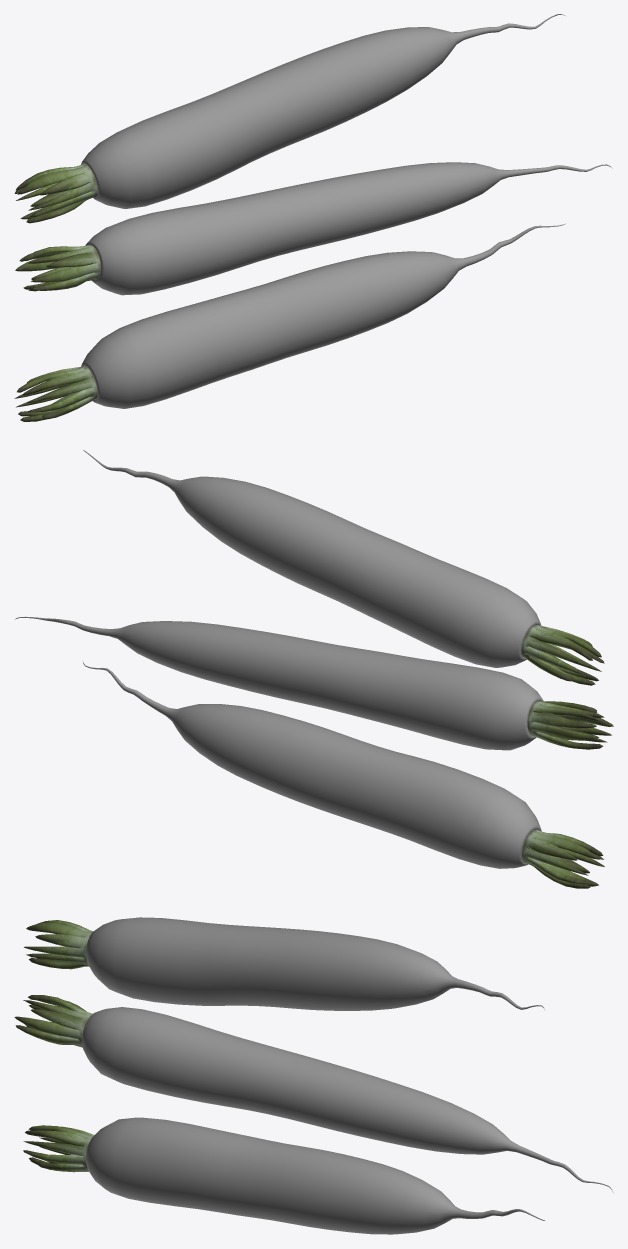
The picture shows the model from 3 angles, top to bottom: view 1: azimuth 30°, elevation 25°; view 2: azimuth 150°, elevation 25°; view 3: azimuth 330°, elevation 25°; orthographic projection.
Parts seen in each view (by area): view 1: Model_103_White_Radish_04, Model_103_White_Radish_02, Model_103_White_Radish_01, Model_103_White_Radish_05, Model_103_White_Radish_03, Model_103_White_Radish_00; view 2: Model_103_White_Radish_04, Model_103_White_Radish_02, Model_103_White_Radish_01, Model_103_White_Radish_03, Model_103_White_Radish_00, Model_103_White_Radish_05; view 3: Model_103_White_Radish_01, Model_103_White_Radish_02, Model_103_White_Radish_04, Model_103_White_Radish_00, Model_103_White_Radish_05, Model_103_White_Radish_03.
Part boxes in pixels (x1,y1,x2,y2): Model_103_White_Radish_04: (81,14,565,208); Model_103_White_Radish_02: (81,223,566,408); Model_103_White_Radish_01: (85,162,612,295); Model_103_White_Radish_05: (14,164,97,223); Model_103_White_Radish_03: (14,366,97,421); Model_103_White_Radish_00: (15,245,100,291); Model_103_White_Radish_04: (83,450,541,667); Model_103_White_Radish_02: (83,662,541,868); Model_103_White_Radish_01: (15,616,543,750); Model_103_White_Radish_03: (521,829,604,888); Model_103_White_Radish_00: (527,701,613,749); Model_103_White_Radish_05: (521,625,604,685); Model_103_White_Radish_01: (82,1007,613,1192); Model_103_White_Radish_02: (86,1117,544,1234); Model_103_White_Radish_04: (86,917,544,1010); Model_103_White_Radish_00: (14,995,92,1047); Model_103_White_Radish_05: (24,920,93,969); Model_103_White_Radish_03: (23,1125,94,1172).
Bounding box in the file's own units: 100 × 50.39 × 12.23.
2 materials, 1 textured.
